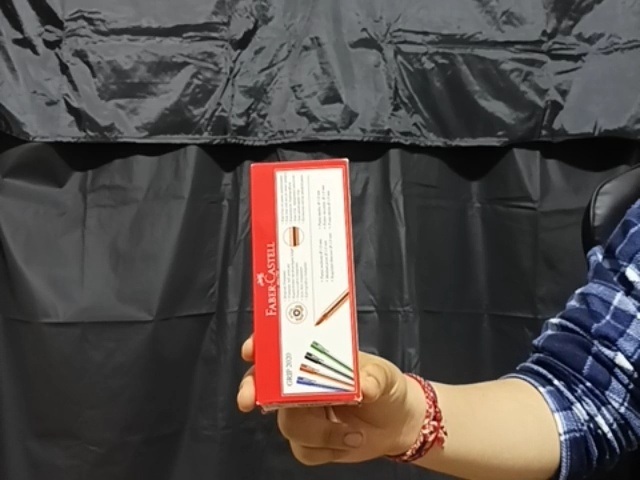xd: (247, 157, 364, 410)
